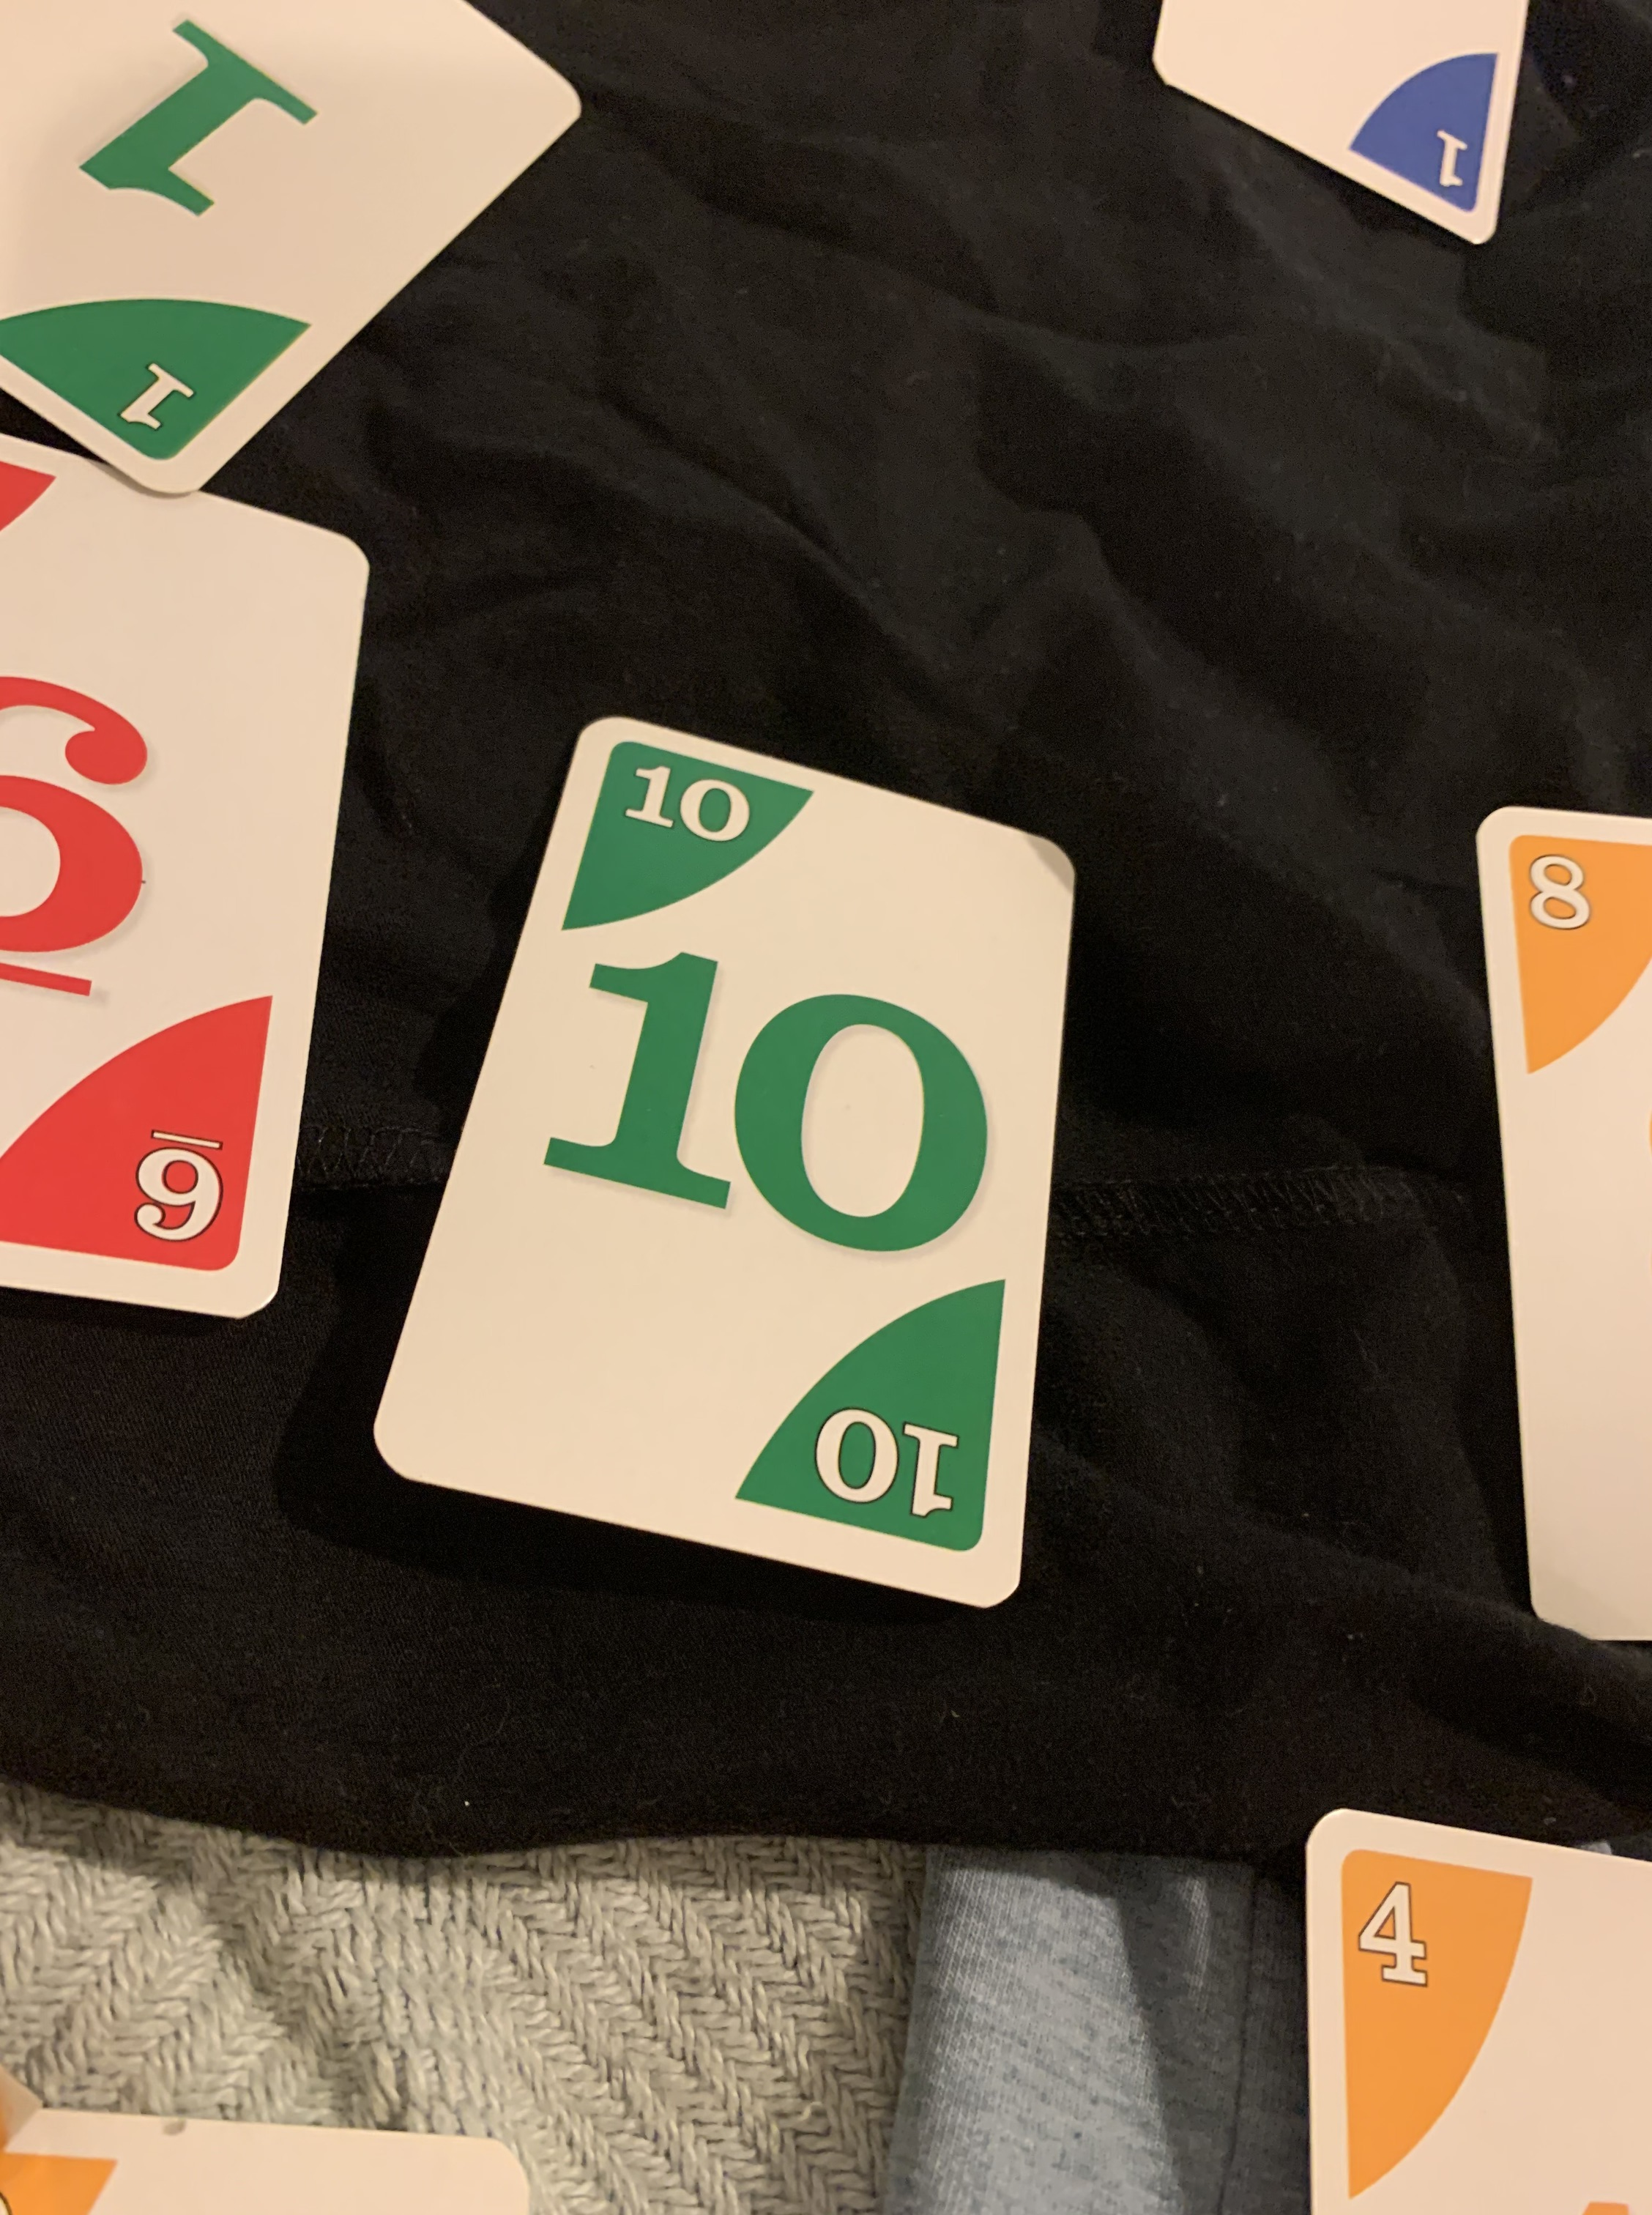ten: (347, 687, 1104, 1627)
